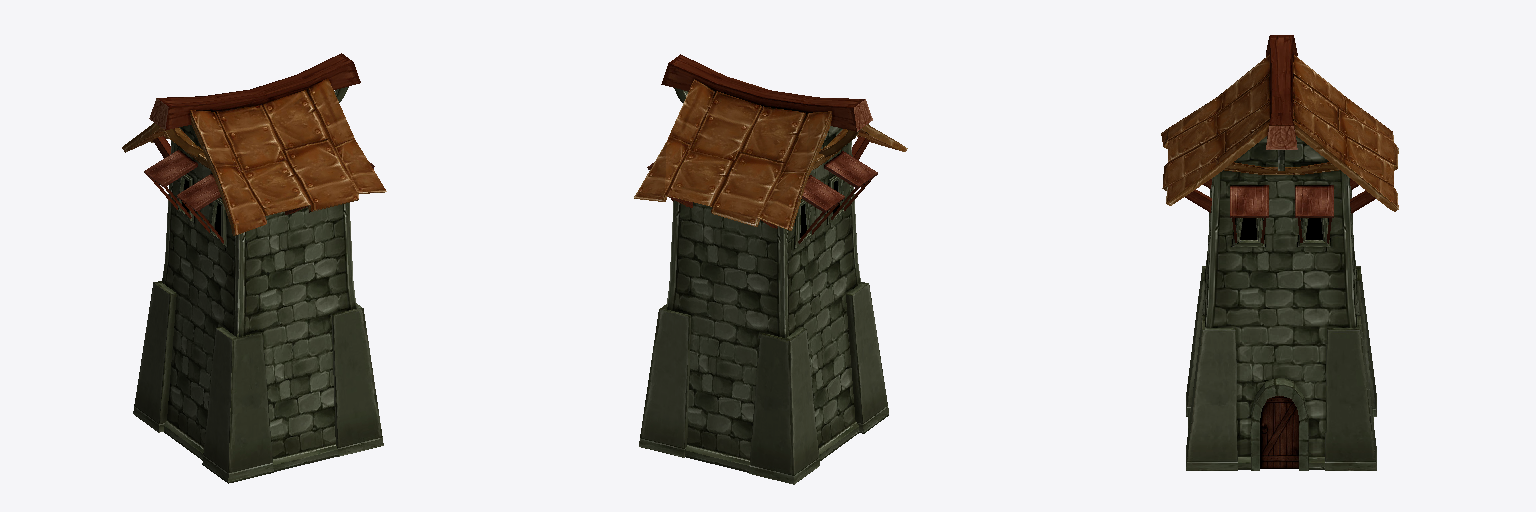
3 views of the same model, side by side, from view 1: azimuth 30°, elevation 25°; view 2: azimuth 150°, elevation 25°; view 3: azimuth 270°, elevation 25° (orthographic).
Size of the model in its own units: 11.3 by 19.37 by 11.88.
Materials: 1 (1 with a texture image).